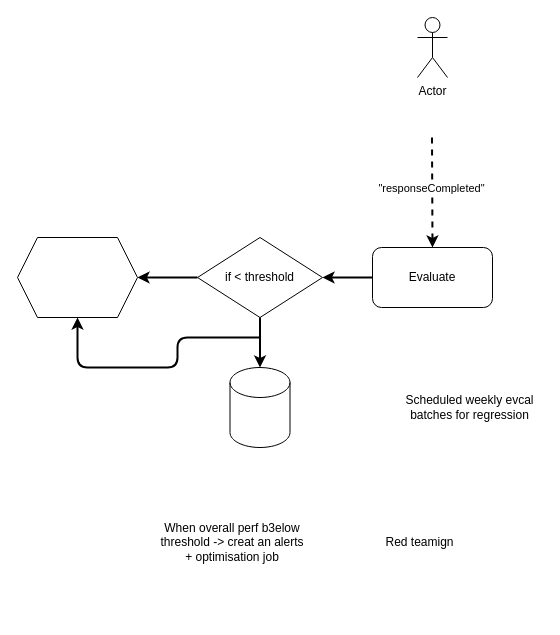
Image size: 560x635. Some labels were removed from this diagram. The shapes that lost their labels are listed below. From the top down, each one's centre as x and y in pixels, then its label:
At pixel 77 277: "App Insights + Azure Monitor".
At pixel 259 407: "Regression set".
